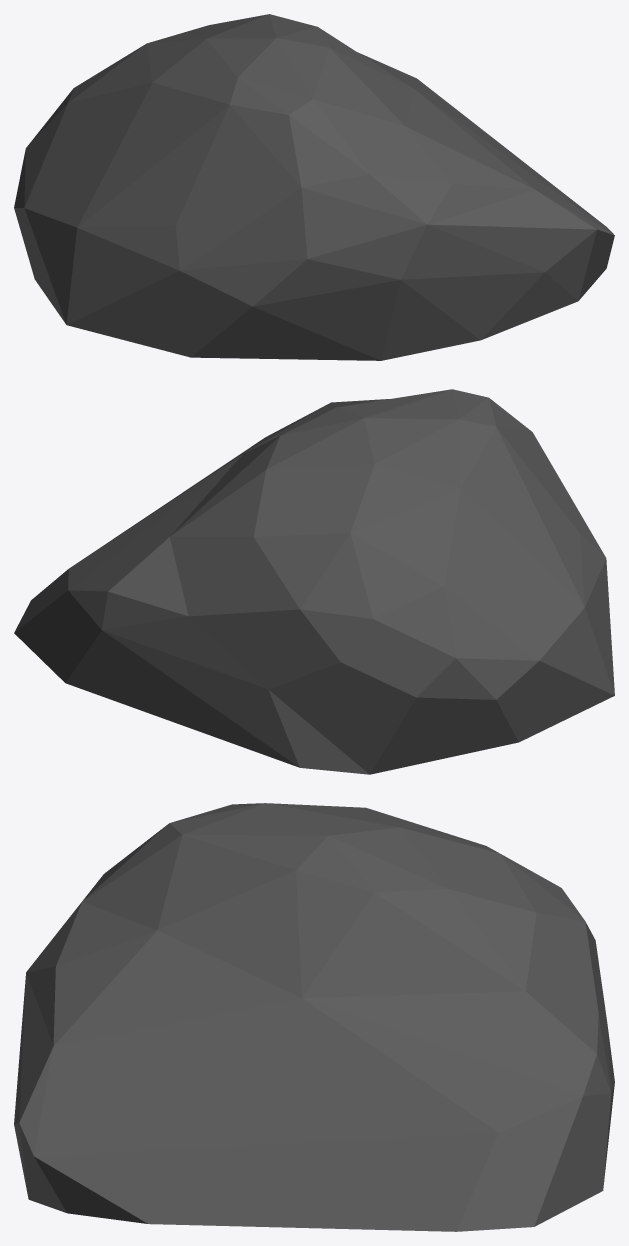
Rendered from small rock1.fbx.
3 views of the same model, one above another, from view 1: azimuth 30°, elevation 25°; view 2: azimuth 150°, elevation 25°; view 3: azimuth 270°, elevation 25° (orthographic). The views are drawn at different scales.
Parts seen in each view (by area): view 1: rock small2_LOD0; view 2: rock small2_LOD0; view 3: rock small2_LOD0.
Boxes of the visible parts, bbox=[...] form: rock small2_LOD0: bbox=[14, 14, 614, 360]; rock small2_LOD0: bbox=[14, 389, 614, 774]; rock small2_LOD0: bbox=[14, 803, 614, 1231].
Size of what is drawn, in the model's own units: 3.63 by 1.67 by 3.2.
